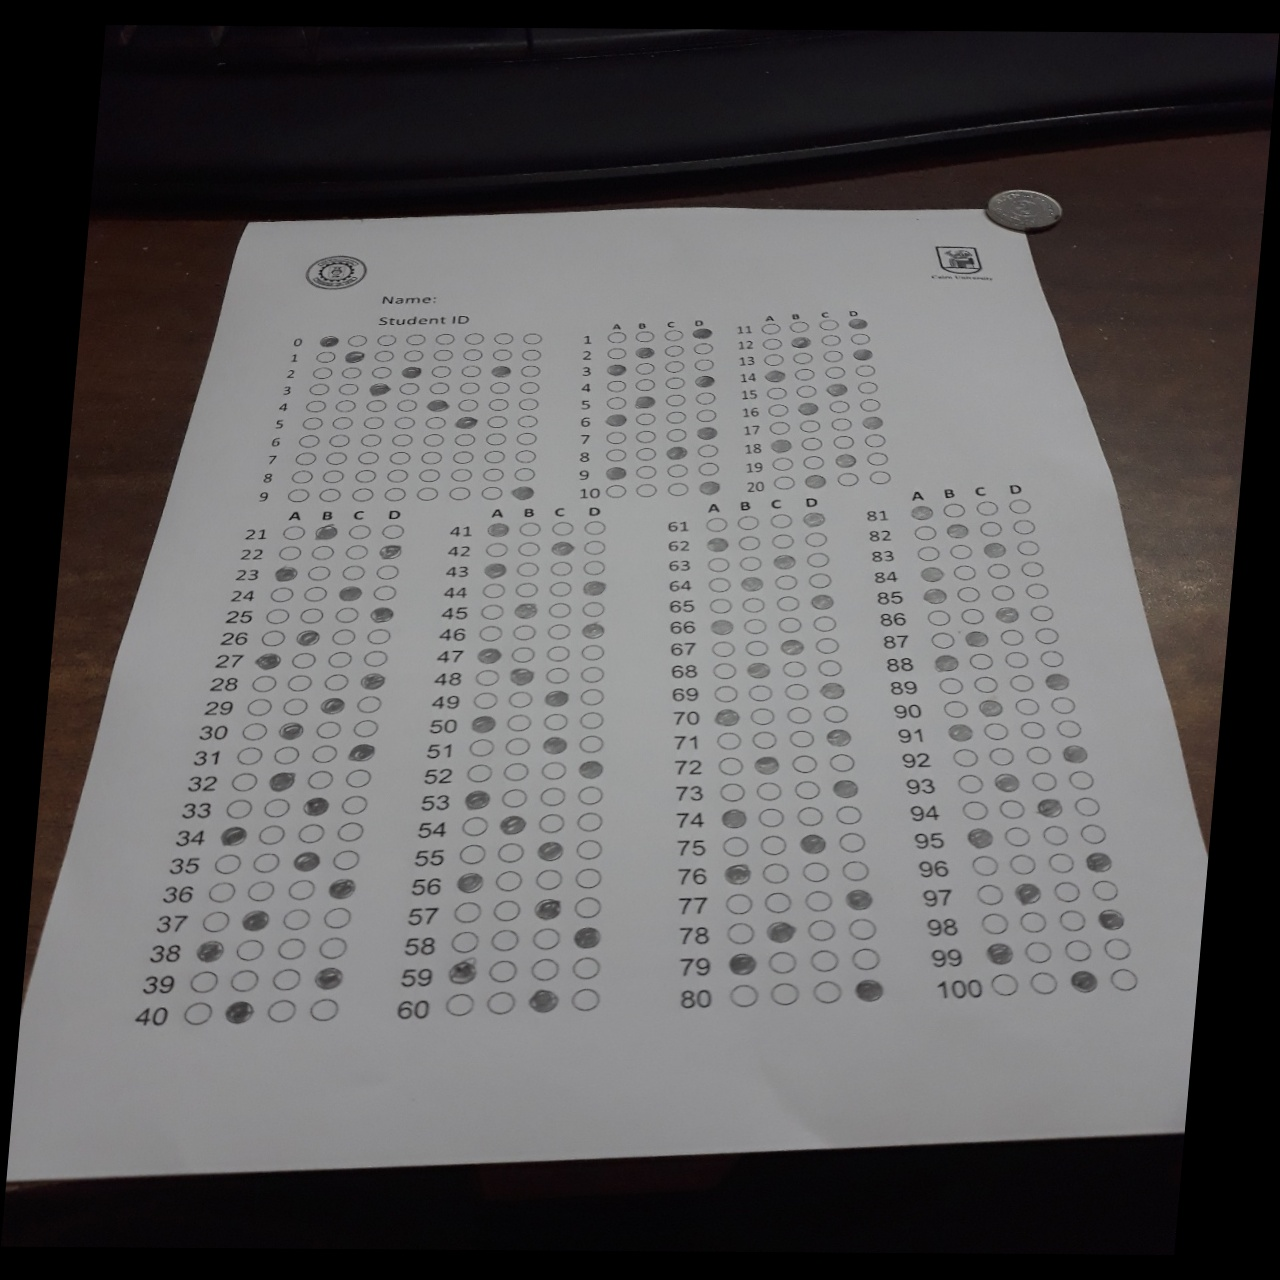not-c: (443, 990, 476, 1015), (486, 960, 520, 983), (455, 842, 489, 865), (806, 917, 838, 941), (808, 951, 840, 974), (488, 928, 522, 951), (568, 989, 602, 1012), (1101, 937, 1132, 960), (850, 947, 881, 971), (767, 949, 798, 973), (728, 983, 760, 1007), (485, 990, 517, 1014), (527, 956, 559, 980), (572, 896, 604, 919), (574, 836, 606, 859), (801, 862, 833, 884), (835, 830, 867, 852), (529, 927, 561, 949), (495, 840, 527, 863), (568, 956, 601, 979), (573, 869, 606, 891), (493, 869, 527, 890), (846, 918, 877, 941), (794, 804, 824, 828), (803, 890, 835, 912), (720, 833, 751, 856), (271, 968, 302, 990), (182, 1002, 213, 1024), (450, 931, 482, 953), (452, 900, 484, 922), (490, 900, 522, 922), (761, 891, 794, 912), (812, 981, 843, 1003), (769, 982, 799, 1005), (726, 922, 756, 945), (309, 999, 340, 1021), (266, 999, 297, 1021), (459, 813, 490, 836), (1017, 911, 1049, 932), (1107, 969, 1138, 990), (256, 823, 287, 844), (1063, 939, 1092, 961), (989, 974, 1019, 996), (1029, 971, 1058, 993), (1089, 880, 1119, 901), (1051, 881, 1082, 903), (979, 914, 1009, 935), (839, 860, 870, 881), (761, 862, 791, 883), (341, 794, 372, 815), (206, 881, 237, 903), (287, 879, 318, 900), (234, 939, 265, 960), (318, 937, 348, 958), (188, 971, 218, 992), (576, 784, 606, 805), (1041, 825, 1073, 845), (1046, 852, 1075, 873), (1056, 910, 1085, 931), (1022, 942, 1051, 964), (726, 893, 755, 914), (794, 778, 823, 799), (321, 906, 350, 927), (281, 908, 311, 930), (229, 971, 258, 992), (537, 787, 566, 808), (574, 810, 604, 831), (579, 663, 608, 685), (955, 772, 986, 792), (969, 855, 1000, 874), (261, 798, 292, 818), (297, 823, 327, 843), (245, 880, 275, 900), (835, 805, 862, 828), (998, 799, 1029, 818), (1007, 855, 1039, 873), (790, 753, 818, 774), (719, 782, 747, 803), (715, 731, 743, 753), (751, 730, 779, 751), (787, 728, 815, 749), (200, 911, 229, 932), (499, 788, 527, 809), (578, 731, 606, 753), (472, 689, 501, 710), (758, 835, 788, 855), (335, 821, 365, 840), (331, 850, 360, 870), (215, 853, 244, 873), (251, 851, 280, 871), (275, 938, 305, 958), (537, 813, 566, 833), (467, 737, 496, 757), (503, 736, 532, 756), (505, 712, 535, 731), (960, 801, 990, 819), (1073, 796, 1103, 815), (1001, 828, 1032, 846), (976, 885, 1005, 905), (828, 753, 856, 772), (755, 779, 783, 799), (717, 755, 745, 775), (535, 869, 563, 888), (539, 760, 567, 779), (503, 761, 531, 781), (464, 762, 492, 782), (540, 712, 568, 731), (579, 710, 607, 730), (506, 690, 535, 710), (578, 687, 606, 707), (1029, 771, 1058, 790), (748, 704, 774, 726), (307, 768, 333, 789), (226, 798, 252, 819), (757, 806, 784, 826), (343, 768, 370, 788), (231, 771, 258, 791), (579, 642, 606, 662), (475, 667, 502, 687), (1080, 825, 1110, 843), (1056, 719, 1084, 737), (1019, 720, 1047, 738), (823, 704, 847, 726), (748, 683, 774, 703), (781, 659, 806, 679), (712, 638, 737, 658), (815, 634, 840, 654), (986, 561, 1013, 580), (942, 700, 969, 719), (1024, 745, 1051, 764), (286, 673, 313, 692), (322, 672, 349, 690), (353, 695, 380, 714), (282, 697, 309, 716), (246, 697, 273, 716), (237, 745, 264, 764), (580, 600, 607, 619), (481, 580, 508, 599), (988, 747, 1016, 764), (1067, 770, 1095, 788), (787, 704, 810, 726), (240, 723, 268, 741), (715, 683, 740, 703), (784, 680, 809, 700), (817, 658, 842, 678), (745, 638, 770, 658), (1009, 673, 1035, 692), (272, 744, 298, 763), (546, 666, 572, 685), (546, 600, 572, 619), (479, 601, 505, 620), (513, 579, 539, 598), (1039, 651, 1065, 668), (930, 632, 956, 649), (1014, 697, 1041, 715), (953, 748, 980, 765), (704, 576, 731, 593), (348, 719, 375, 736), (309, 745, 336, 763), (547, 622, 574, 640), (990, 584, 1015, 602), (712, 662, 736, 681), (343, 543, 368, 561), (340, 564, 365, 583), (335, 604, 360, 622), (252, 673, 277, 692), (510, 622, 535, 641), (1029, 604, 1055, 621), (1049, 695, 1075, 713), (975, 497, 1001, 515), (913, 524, 939, 542), (978, 519, 1003, 537), (948, 543, 974, 560), (951, 563, 976, 580), (998, 628, 1023, 646), (969, 652, 995, 669), (1003, 649, 1029, 667), (777, 615, 803, 633), (808, 571, 833, 588), (704, 557, 730, 574), (703, 516, 729, 533), (865, 468, 891, 485), (302, 584, 328, 601), (545, 644, 571, 661), (509, 646, 535, 663), (941, 501, 968, 517), (937, 678, 964, 694), (982, 722, 1009, 738), (740, 597, 767, 613), (772, 573, 799, 590), (738, 556, 765, 572), (737, 535, 764, 551), (314, 722, 341, 738), (955, 585, 980, 602), (812, 614, 837, 632), (805, 550, 830, 567), (804, 529, 829, 546), (381, 522, 406, 539), (309, 542, 334, 559), (331, 627, 355, 645), (291, 651, 315, 668), (478, 622, 503, 640), (583, 558, 607, 576), (583, 537, 607, 554), (1033, 627, 1058, 644), (914, 545, 940, 561), (927, 608, 953, 625), (972, 676, 998, 693), (707, 597, 733, 613), (770, 532, 796, 549), (736, 515, 762, 531), (836, 471, 862, 488), (802, 454, 828, 470), (829, 415, 855, 431), (604, 328, 629, 345), (275, 544, 301, 560), (298, 606, 324, 622), (264, 608, 290, 625), (366, 627, 392, 644), (772, 475, 796, 492), (348, 522, 372, 539), (372, 585, 395, 602), (1007, 498, 1032, 515), (775, 594, 799, 611), (862, 433, 886, 449), (799, 436, 824, 452), (282, 524, 307, 540), (374, 564, 399, 580), (306, 564, 331, 580), (271, 586, 295, 602), (365, 651, 389, 667), (549, 580, 573, 597), (551, 518, 576, 535), (583, 520, 607, 537), (1024, 583, 1050, 598), (740, 617, 765, 632), (770, 455, 794, 471), (832, 433, 856, 449), (290, 468, 313, 484), (420, 449, 443, 465), (261, 629, 285, 646), (327, 651, 350, 667), (486, 542, 510, 558), (1012, 519, 1036, 535), (960, 608, 985, 624), (769, 512, 794, 527), (788, 319, 812, 334), (632, 361, 656, 376), (665, 463, 689, 478), (551, 560, 576, 576), (515, 560, 539, 576), (516, 540, 540, 556), (517, 520, 542, 536), (634, 463, 656, 479), (635, 483, 658, 499), (489, 379, 511, 395), (293, 450, 315, 467), (417, 467, 440, 483), (1015, 540, 1041, 554), (1020, 561, 1046, 576), (602, 379, 628, 393), (866, 451, 890, 467), (662, 342, 686, 358), (631, 376, 654, 392), (694, 407, 717, 422), (633, 447, 656, 462), (604, 484, 627, 499), (483, 450, 506, 465), (462, 346, 485, 361), (314, 348, 338, 363), (340, 365, 363, 380), (402, 348, 425, 363), (331, 415, 354, 430), (767, 402, 791, 416), (855, 362, 879, 376), (849, 331, 873, 345), (821, 350, 845, 365), (486, 414, 508, 430), (452, 433, 474, 449), (433, 346, 454, 362), (399, 381, 420, 397), (607, 394, 629, 409), (604, 445, 626, 461), (520, 347, 543, 362), (519, 363, 542, 379), (517, 379, 539, 394), (517, 395, 539, 410), (516, 414, 538, 429), (513, 467, 536, 482), (482, 467, 504, 482), (486, 395, 509, 410), (491, 331, 513, 346), (463, 329, 485, 345), (406, 331, 428, 346), (376, 332, 399, 347), (458, 380, 481, 395), (452, 450, 475, 465), (449, 469, 471, 484), (383, 486, 406, 502), (318, 486, 340, 502), (297, 433, 319, 448), (301, 415, 324, 430), (345, 332, 367, 347), (374, 349, 396, 365), (431, 362, 454, 377), (428, 380, 450, 395), (333, 396, 355, 411), (363, 397, 386, 413), (362, 414, 384, 429), (394, 414, 416, 429), (422, 431, 444, 447), (392, 433, 414, 448), (361, 433, 383, 448), (327, 433, 349, 448), (324, 468, 346, 483), (353, 467, 375, 482), (358, 451, 380, 467), (388, 451, 410, 467), (387, 468, 409, 483), (769, 418, 792, 433), (824, 366, 847, 380), (758, 320, 782, 334), (795, 384, 818, 399), (661, 358, 685, 372), (692, 392, 715, 406), (633, 411, 656, 425), (633, 428, 656, 442), (663, 428, 687, 442), (520, 331, 544, 345), (447, 486, 470, 501), (484, 431, 508, 445), (491, 348, 515, 362), (433, 331, 456, 345), (415, 486, 438, 501), (305, 399, 328, 413), (395, 399, 418, 413), (481, 485, 502, 501), (288, 488, 309, 503), (856, 379, 880, 392), (762, 352, 787, 365), (605, 346, 629, 359), (799, 418, 822, 433), (819, 318, 842, 332), (792, 349, 815, 363), (792, 366, 815, 380), (690, 340, 713, 354), (765, 384, 788, 399), (692, 356, 714, 370), (663, 392, 686, 406), (608, 394, 631, 408), (663, 409, 686, 423), (515, 431, 537, 445), (461, 365, 483, 379), (458, 397, 481, 411), (350, 486, 373, 501), (308, 381, 331, 395), (309, 363, 332, 377), (324, 451, 346, 465), (828, 399, 851, 411), (859, 399, 883, 411), (817, 333, 840, 346), (760, 338, 783, 350), (661, 328, 685, 341), (632, 331, 655, 343), (663, 377, 687, 390), (605, 431, 628, 444), (695, 445, 719, 458), (695, 462, 719, 475), (665, 483, 688, 496), (513, 449, 535, 463), (370, 363, 392, 377), (338, 381, 359, 395), (424, 416, 445, 430)
taken-c: (193, 940, 225, 964), (327, 876, 358, 899), (237, 910, 268, 932), (217, 825, 248, 847), (291, 850, 322, 872), (299, 794, 331, 816), (447, 960, 476, 983), (529, 990, 558, 1014), (314, 967, 345, 989), (224, 1002, 256, 1023), (265, 770, 297, 791), (727, 951, 755, 974), (1084, 851, 1114, 873), (723, 863, 753, 885), (1012, 883, 1042, 904), (1096, 908, 1126, 930), (983, 942, 1014, 964), (1069, 971, 1099, 992), (506, 667, 537, 688), (576, 760, 606, 781), (753, 754, 781, 776), (853, 980, 883, 1001), (765, 921, 795, 942), (713, 707, 742, 728), (275, 720, 305, 741), (964, 828, 994, 847), (842, 888, 872, 908), (531, 899, 561, 919), (719, 806, 747, 828), (990, 772, 1020, 792), (822, 727, 851, 747), (572, 927, 601, 947), (454, 872, 484, 891), (359, 670, 386, 692), (798, 835, 826, 855), (830, 779, 858, 799), (462, 790, 490, 810), (497, 815, 525, 835), (345, 742, 374, 761), (537, 840, 563, 862), (817, 680, 844, 700), (809, 592, 836, 612), (1035, 799, 1064, 817), (272, 565, 301, 583), (744, 660, 770, 680), (778, 636, 804, 656), (708, 617, 735, 635), (253, 652, 280, 670), (338, 584, 365, 602), (294, 628, 322, 646), (1043, 673, 1069, 692), (976, 700, 1003, 717), (738, 576, 765, 593), (704, 535, 731, 552), (319, 696, 346, 714), (367, 606, 394, 624), (946, 724, 972, 742), (1062, 744, 1088, 762), (483, 520, 509, 538), (470, 715, 496, 733), (799, 511, 826, 527), (580, 579, 607, 595), (311, 524, 338, 540), (452, 414, 479, 430), (944, 522, 968, 539), (908, 504, 933, 522), (933, 655, 959, 672), (482, 561, 508, 578), (476, 647, 502, 663), (542, 736, 567, 753), (376, 543, 402, 559), (512, 602, 539, 618), (542, 690, 568, 706), (920, 565, 945, 581), (922, 587, 947, 604), (964, 629, 988, 646), (772, 554, 798, 570), (580, 622, 606, 638), (802, 474, 828, 489), (983, 540, 1006, 558), (631, 394, 655, 409), (795, 401, 819, 416), (995, 606, 1017, 622), (550, 540, 576, 554), (399, 365, 425, 377), (367, 382, 392, 396), (602, 465, 627, 479), (602, 411, 627, 425), (665, 445, 689, 459), (850, 347, 874, 361), (424, 399, 450, 411), (788, 335, 813, 348), (343, 349, 367, 363), (511, 486, 535, 501), (604, 361, 627, 375), (825, 383, 849, 397), (832, 454, 856, 468), (859, 414, 883, 428), (316, 335, 341, 348), (694, 427, 719, 440), (692, 374, 716, 387), (769, 440, 794, 452), (489, 365, 512, 377), (697, 481, 721, 493), (690, 326, 714, 339), (763, 370, 787, 383), (846, 316, 870, 329), (633, 346, 658, 358)
